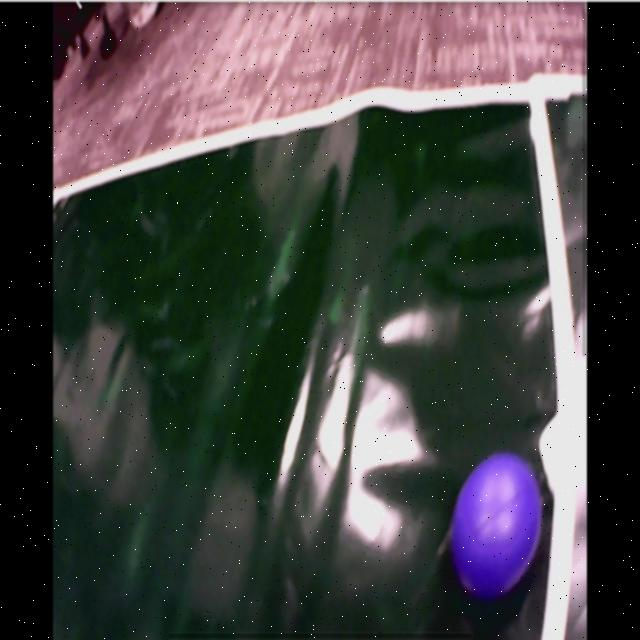ball: (453, 453, 541, 599)
